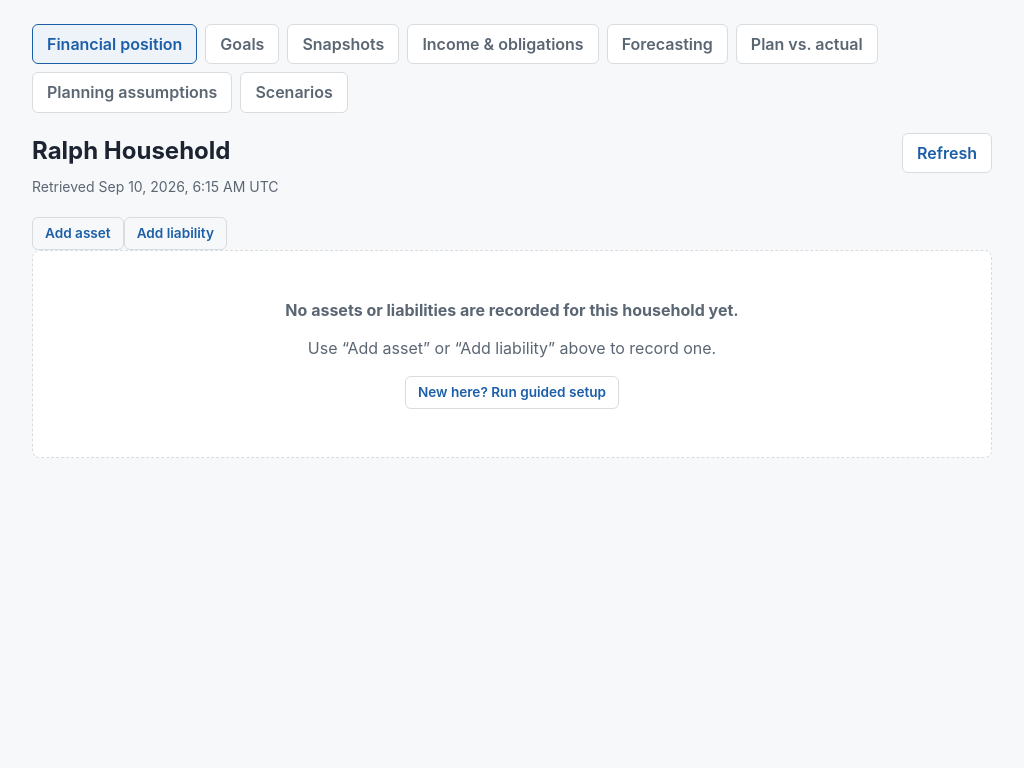
Test case: plan comparison › surfaces an API error (e.g. an invalid snapshot) instead of failing silently
The image size is (1024, 768).
Click the button "Plan vs. actual" at (807, 44), box [736,24,878,64]
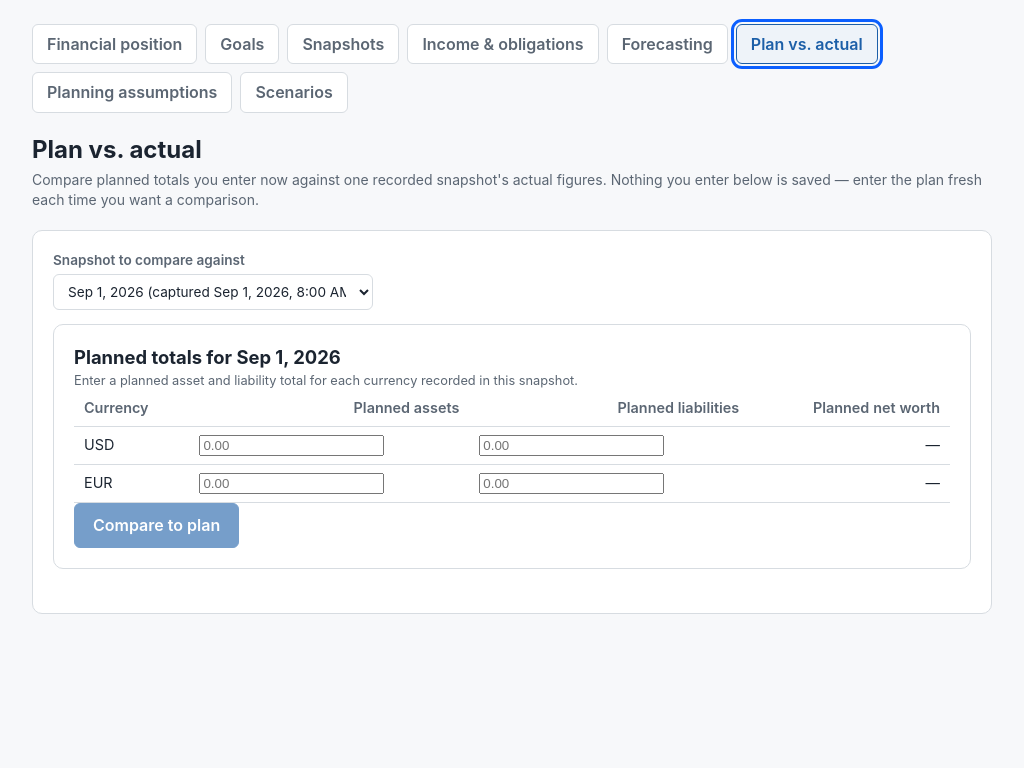
Expected: the heading "Plan vs. actual" is shown, [32,133,202,166]
Type "900" into the field named "Planned assets total (USD)" at (292, 446), box [199,435,384,456]
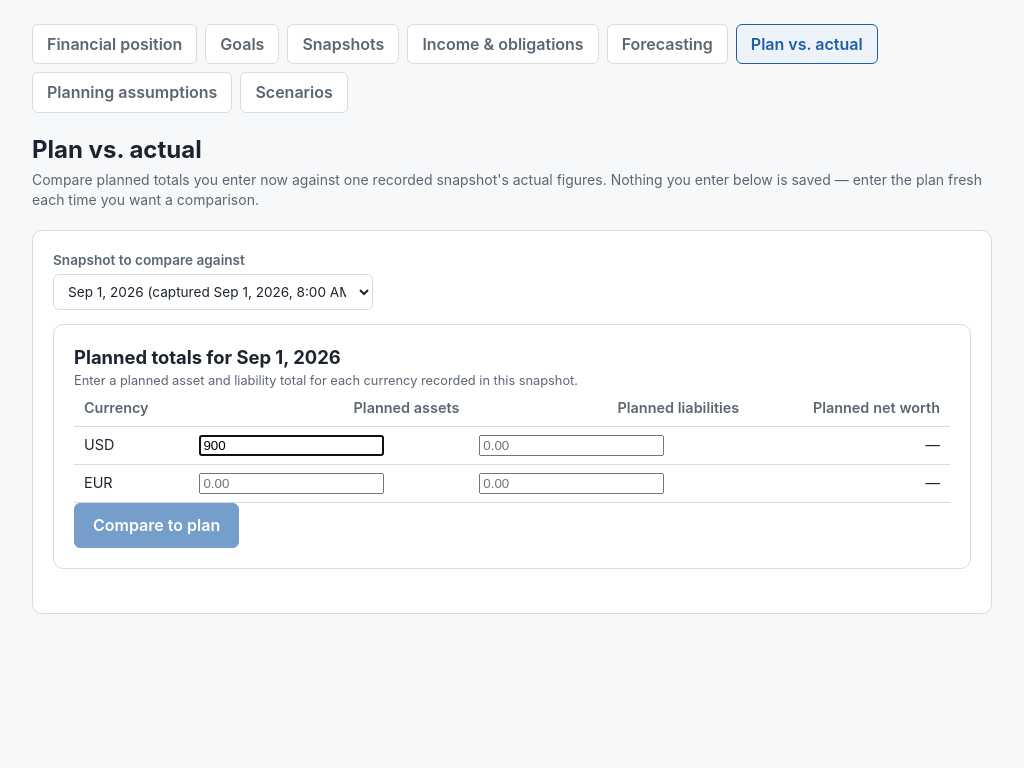
Type "300" into the field named "Planned liabilities total (USD)" at (572, 446), box [479,435,664,456]
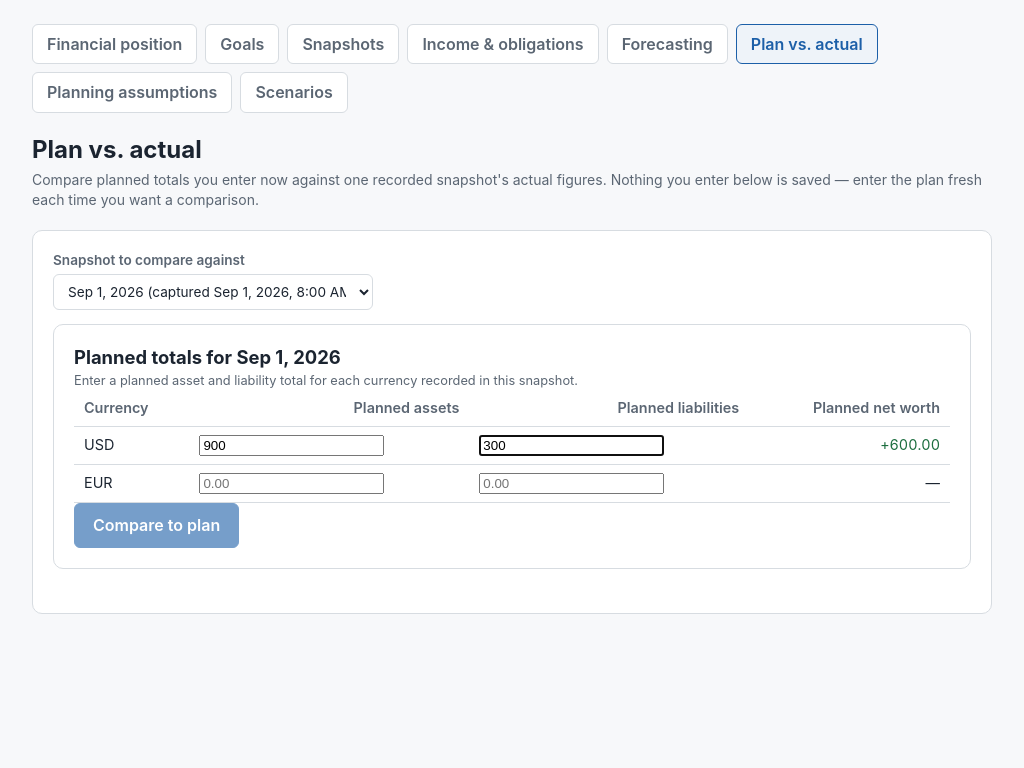
Type "500" into the field named "Planned assets total (EUR)" at (292, 484), box [199,473,384,494]
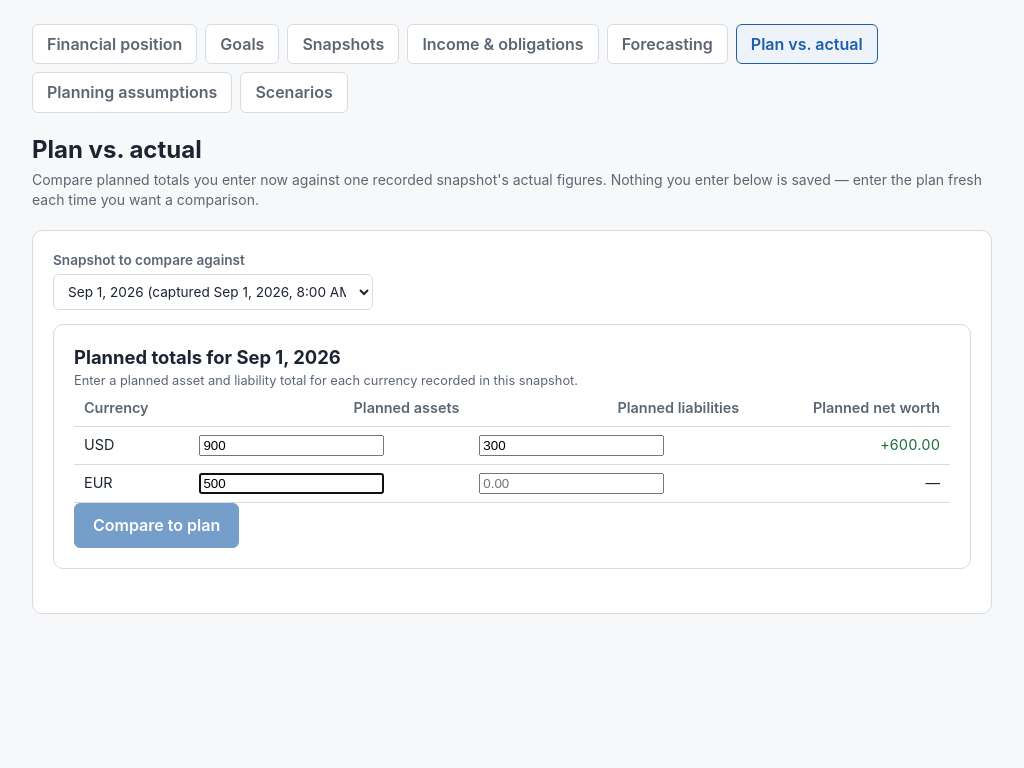
Type "0" into the field named "Planned liabilities total (EUR)" at (572, 484), box [479,473,664,494]
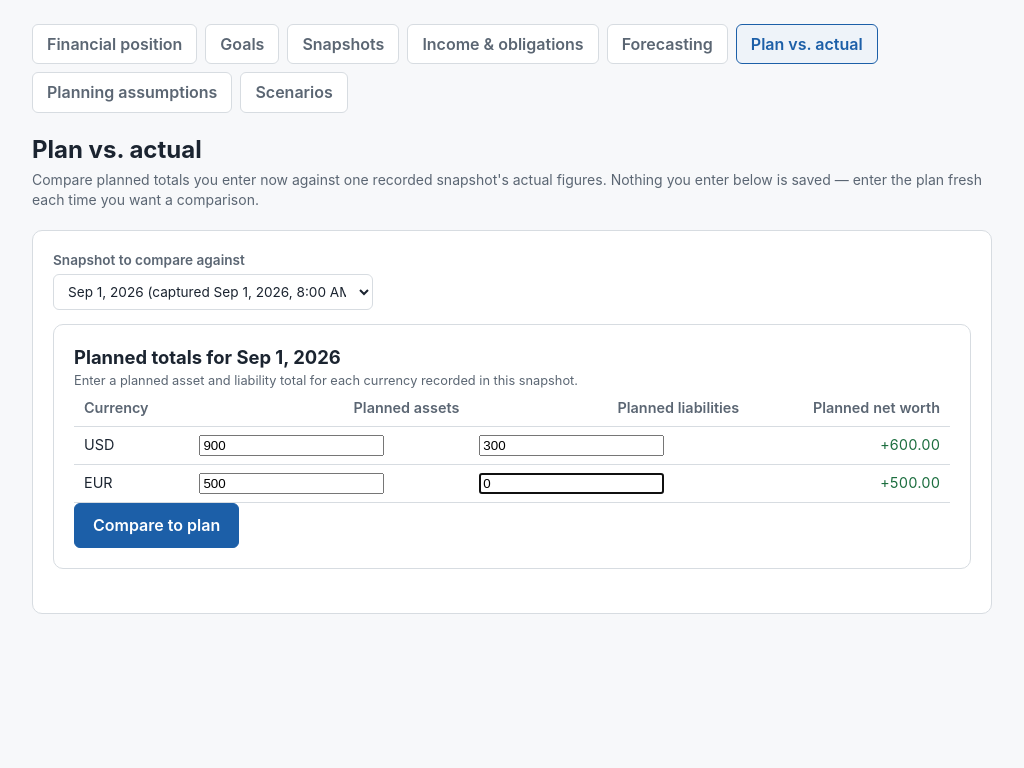
Click the button "Compare to plan" at (157, 526), box [74,503,239,548]
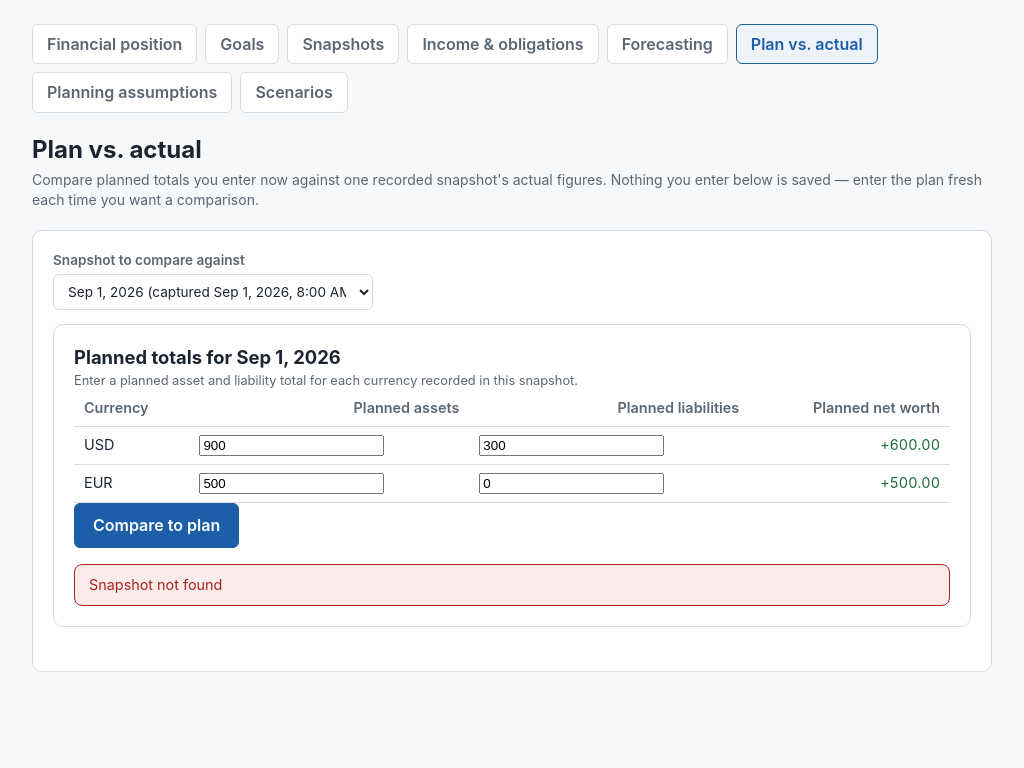
Expected: the message reads "Snapshot not found", [89,576,222,593]
